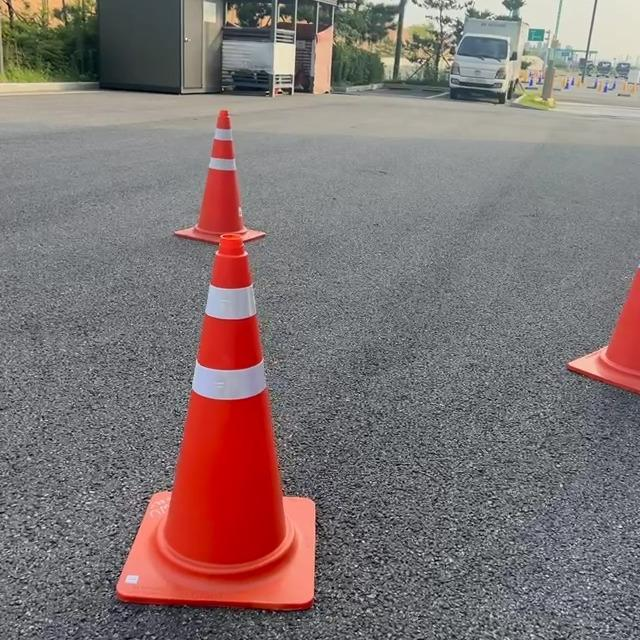fallen_object: (112, 199, 356, 624), (175, 90, 272, 256)
